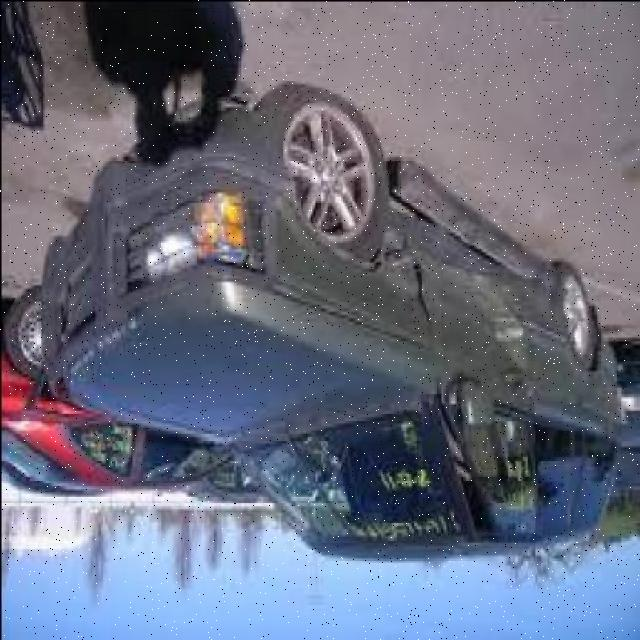damage: (376, 148, 542, 540)
